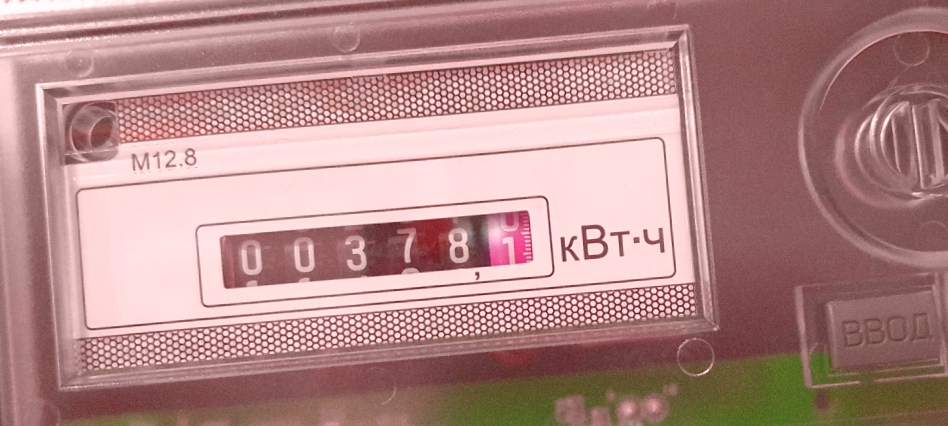0: (237, 235, 267, 277), (290, 234, 317, 274), (498, 210, 521, 233)
1: (499, 233, 519, 265)
3: (341, 231, 369, 273)
7: (394, 225, 419, 265)
8: (445, 224, 471, 265)
screen: (198, 191, 554, 300)
